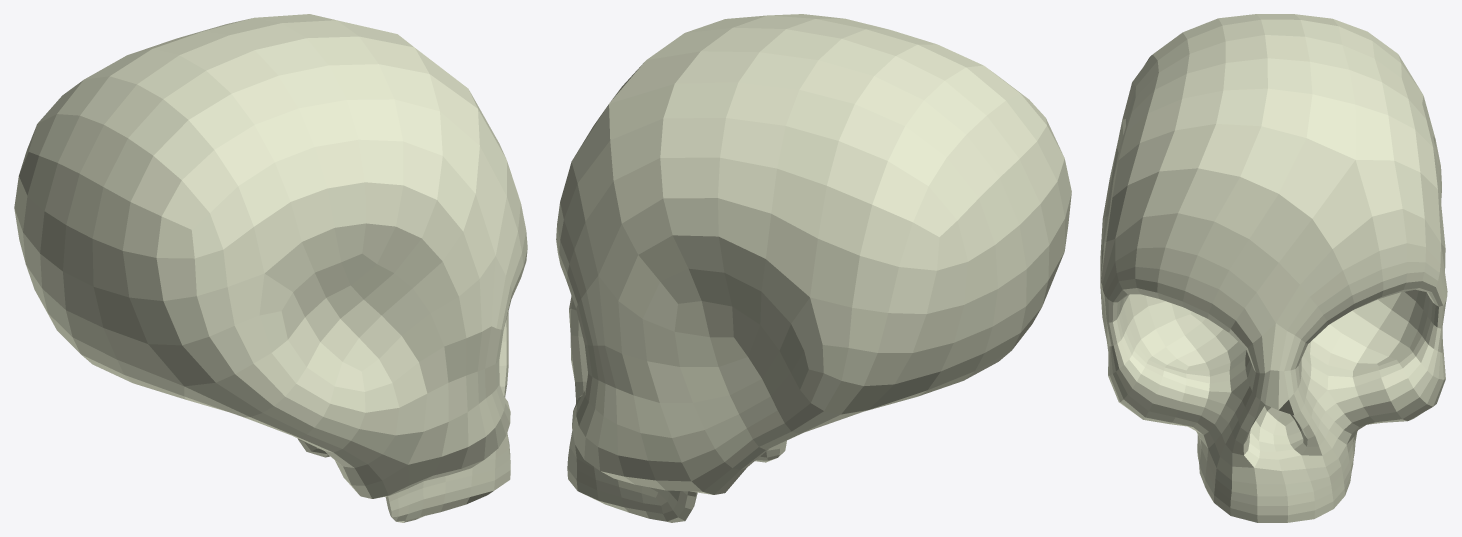
The model's file is Skull_03Test.fbx.
The picture shows the model from 3 angles, left to right: view 1: azimuth 30°, elevation 25°; view 2: azimuth 150°, elevation 25°; view 3: azimuth 270°, elevation 25°; orthographic projection. The views are drawn at different scales.
Visible parts, largest first — view 1: Retopo_Icosphere.002; view 2: Retopo_Icosphere.002; view 3: Retopo_Icosphere.002.
Boxes of the visible parts, bbox=[...] form: Retopo_Icosphere.002: bbox=[14, 14, 527, 522]; Retopo_Icosphere.002: bbox=[556, 14, 1071, 522]; Retopo_Icosphere.002: bbox=[1100, 14, 1447, 522].
Size of the model in its own units: 133 by 134 by 108.
